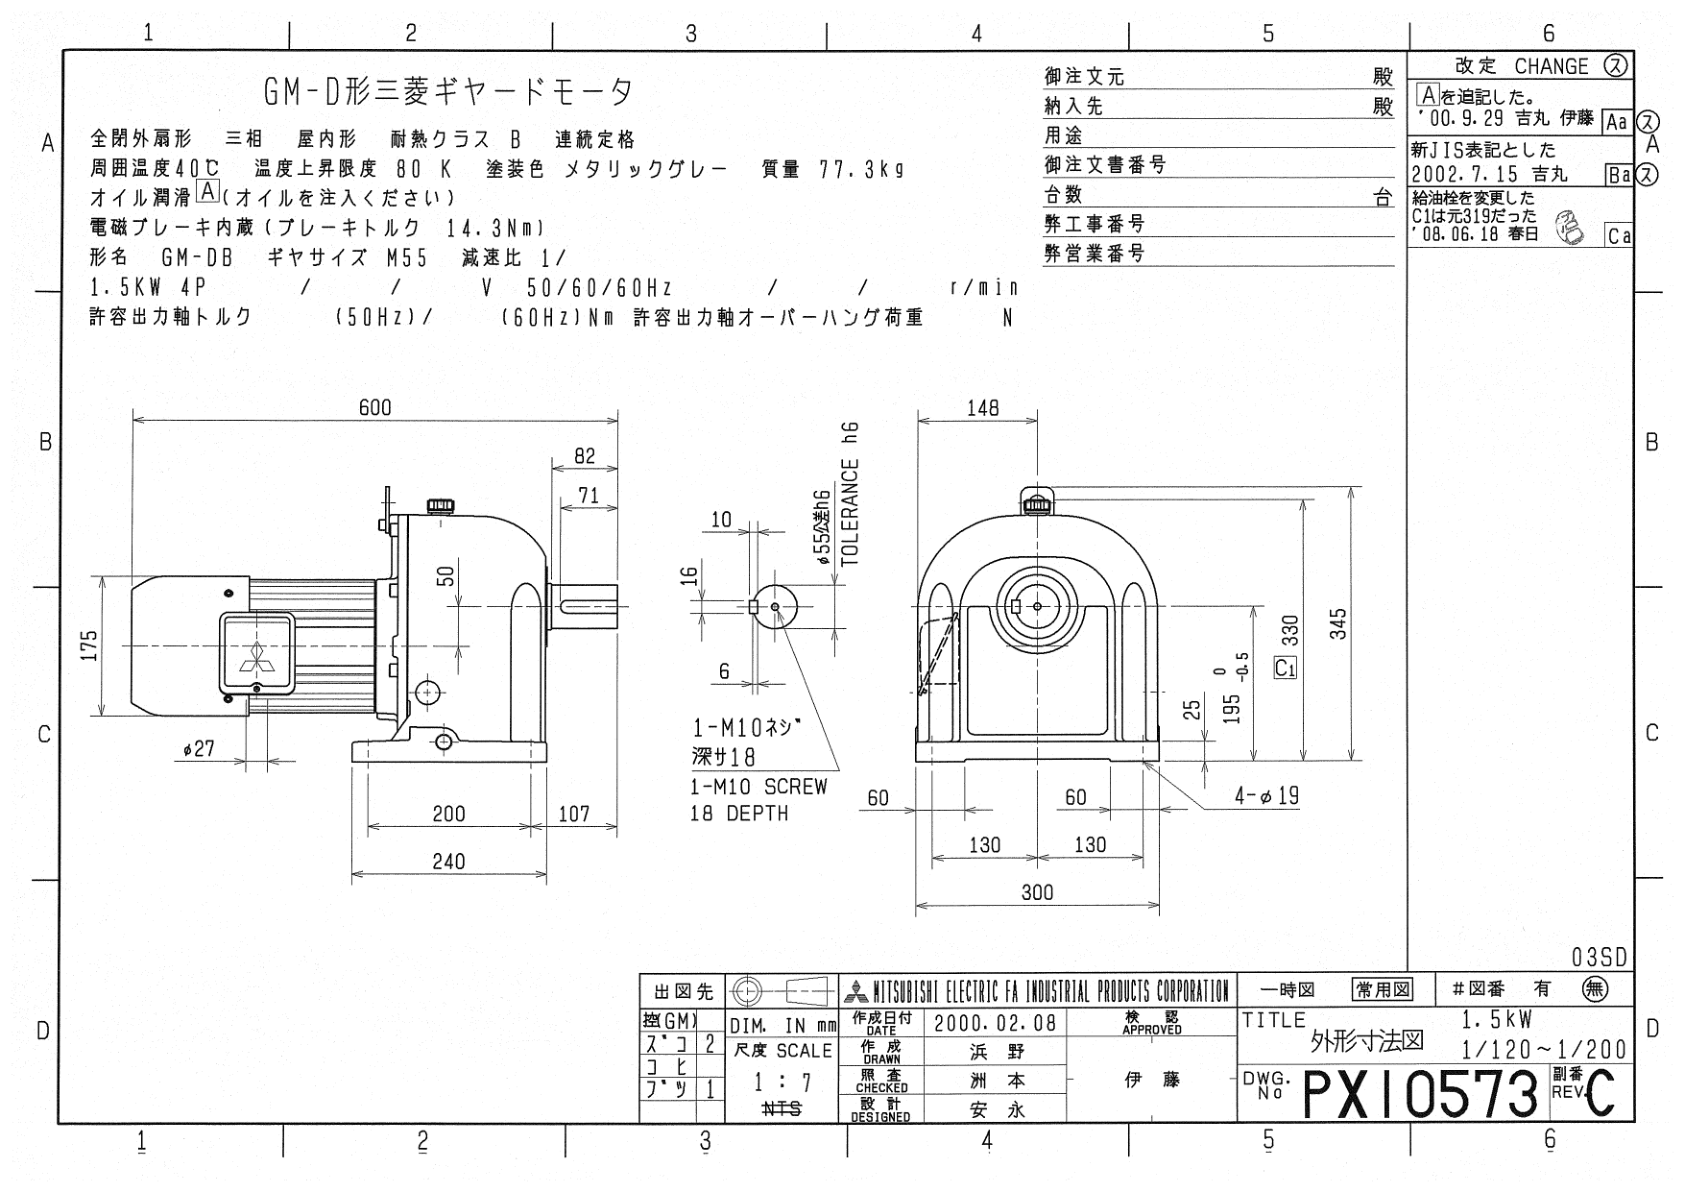GM_D_屋内＿三相_脚: (68, 363, 1382, 934)
